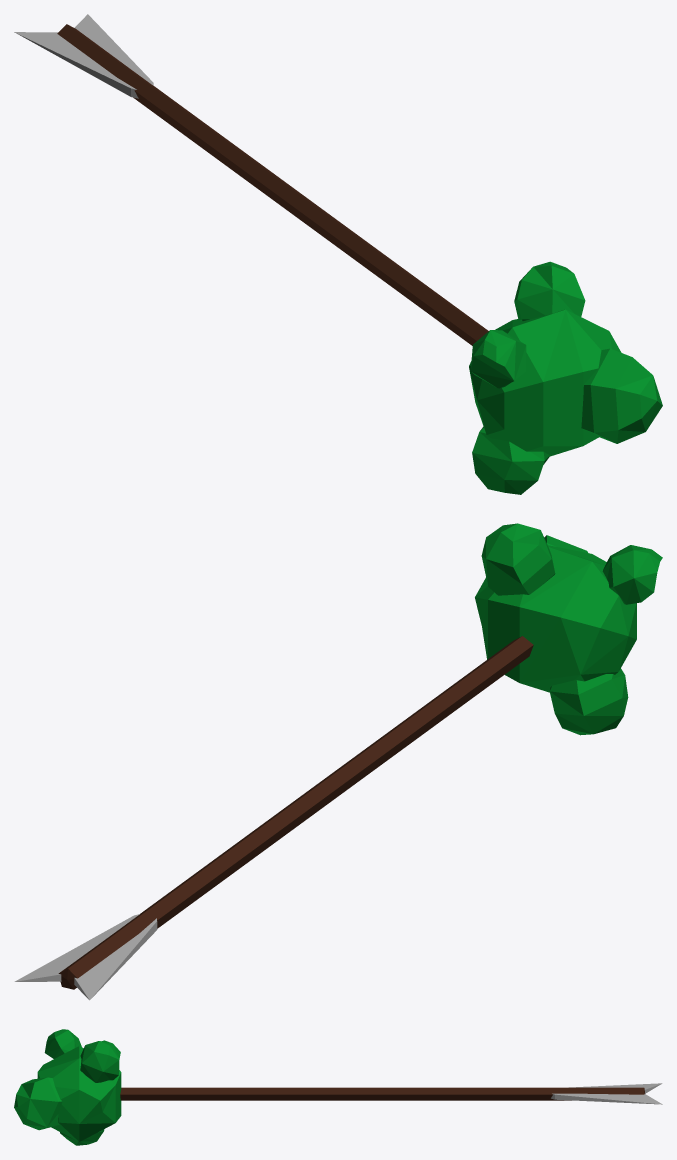
The model's file is Arrow_Stun.fbx.
The picture shows the model from 3 angles, top to bottom: view 1: azimuth 30°, elevation 25°; view 2: azimuth 150°, elevation 25°; view 3: azimuth 270°, elevation 25°; orthographic projection. The views are drawn at different scales.
Parts seen in each view (by area): view 1: Arrow_Stun; view 2: Arrow_Stun; view 3: Arrow_Stun.
Boxes of the visible parts, x1=… form: Arrow_Stun: x1=14, y1=14, x2=662, y2=494; Arrow_Stun: x1=14, y1=523, x2=662, y2=1000; Arrow_Stun: x1=14, y1=1029, x2=662, y2=1145.
Size of the model in its own units: 36.51 by 44.48 by 220.
